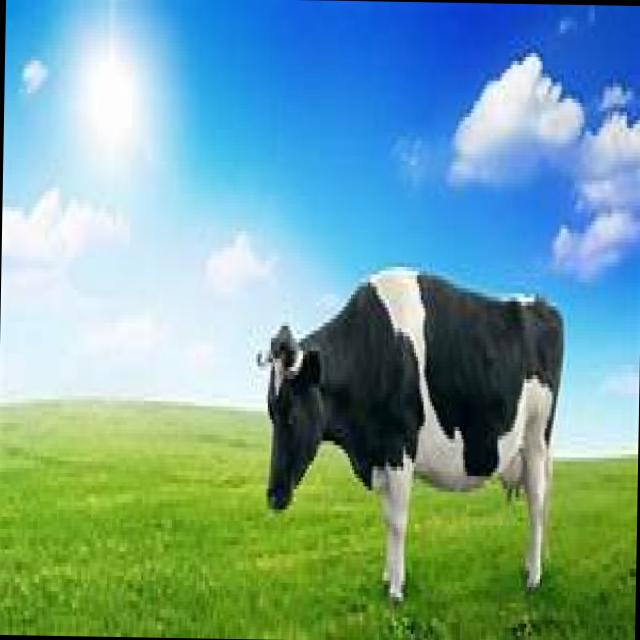animal: (253, 260, 566, 608)
